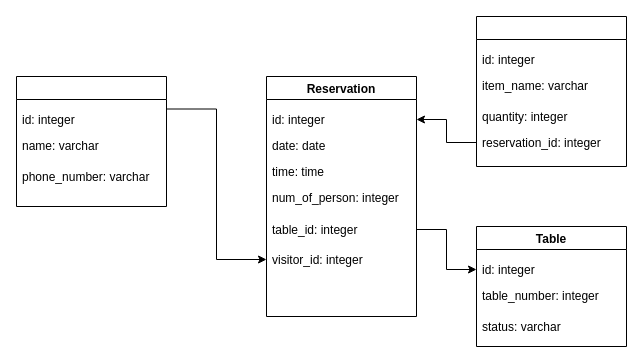
Some shapes in this 643 by 363 pixel diagram are drawn without their labels. The shapes that lost their labels are listed below. From the top down, each one's box as (x1, y1, x2, y2) in pixels, then its label:
(476, 16, 626, 166): Order
(16, 76, 166, 206): Visitor
